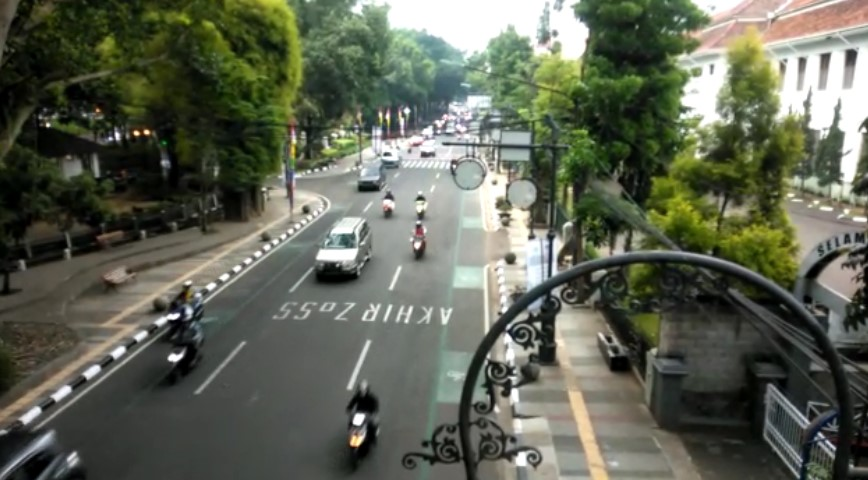mobil: (316, 213, 375, 287), (355, 162, 386, 190)
motor: (339, 382, 383, 464), (161, 310, 206, 380), (163, 278, 210, 325), (410, 220, 434, 261), (382, 189, 397, 221), (413, 192, 428, 218)
